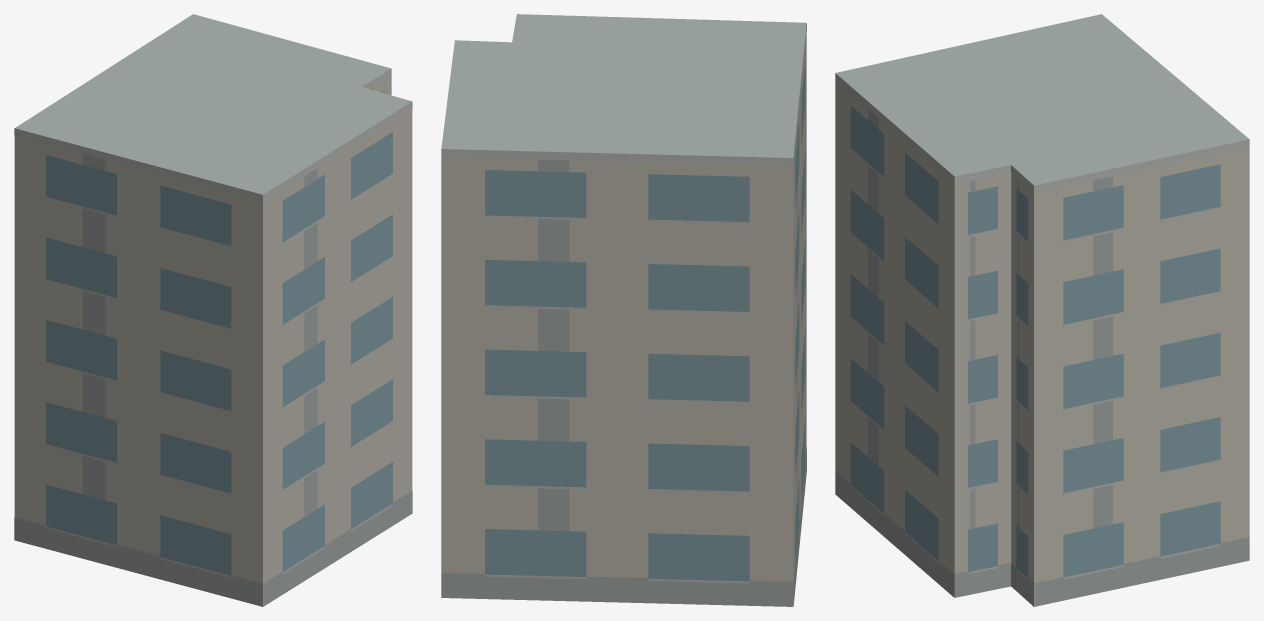
Rendered from survey-upis-32829068.glb.
The picture shows the model from 3 angles, left to right: view 1: azimuth 30°, elevation 25°; view 2: azimuth 150°, elevation 25°; view 3: azimuth 270°, elevation 25°; orthographic projection. The views are drawn at different scales.
Parts seen in each view (by area): view 1: survey-upis-32829068.tmp; view 2: survey-upis-32829068.tmp; view 3: survey-upis-32829068.tmp.
Part boxes in pixels (x1,y1,x2,y2): survey-upis-32829068.tmp: [14, 14, 412, 606]; survey-upis-32829068.tmp: [441, 14, 806, 606]; survey-upis-32829068.tmp: [835, 14, 1249, 606].
Size of the model in its own units: 11.8 by 13.5 by 12.04.
